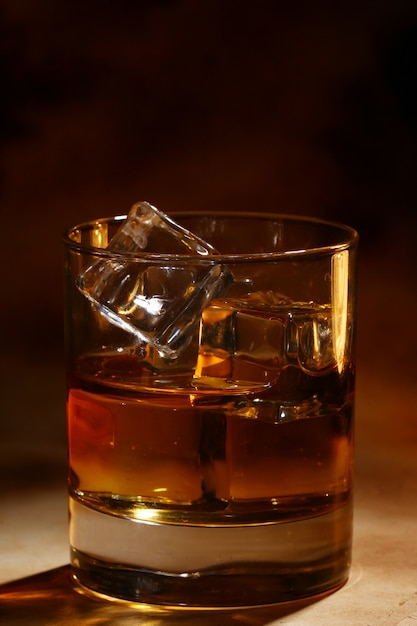alcohol: (64, 206, 362, 610)
